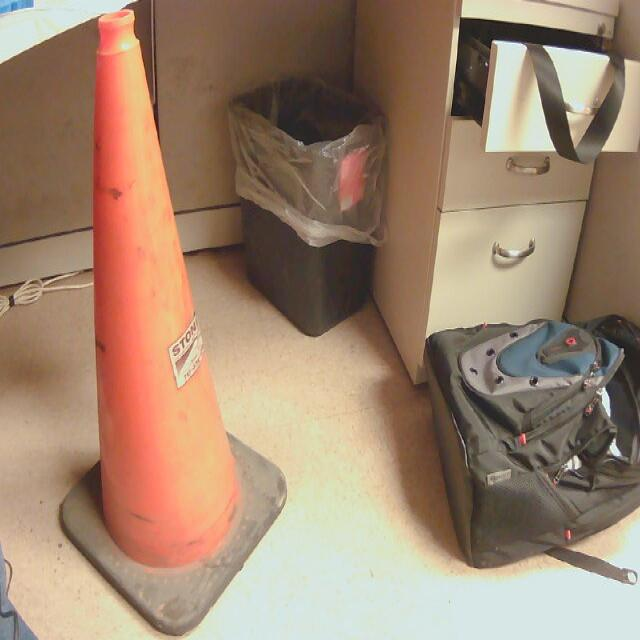traffic cone: (59, 9, 290, 638)
